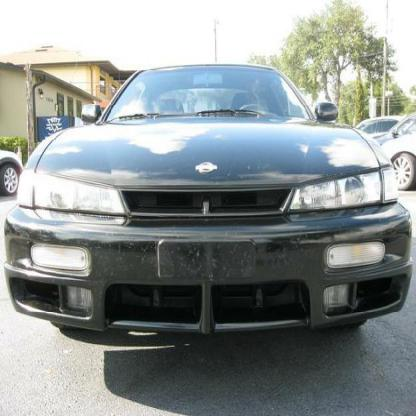Vehicle: (2, 62, 414, 337)
